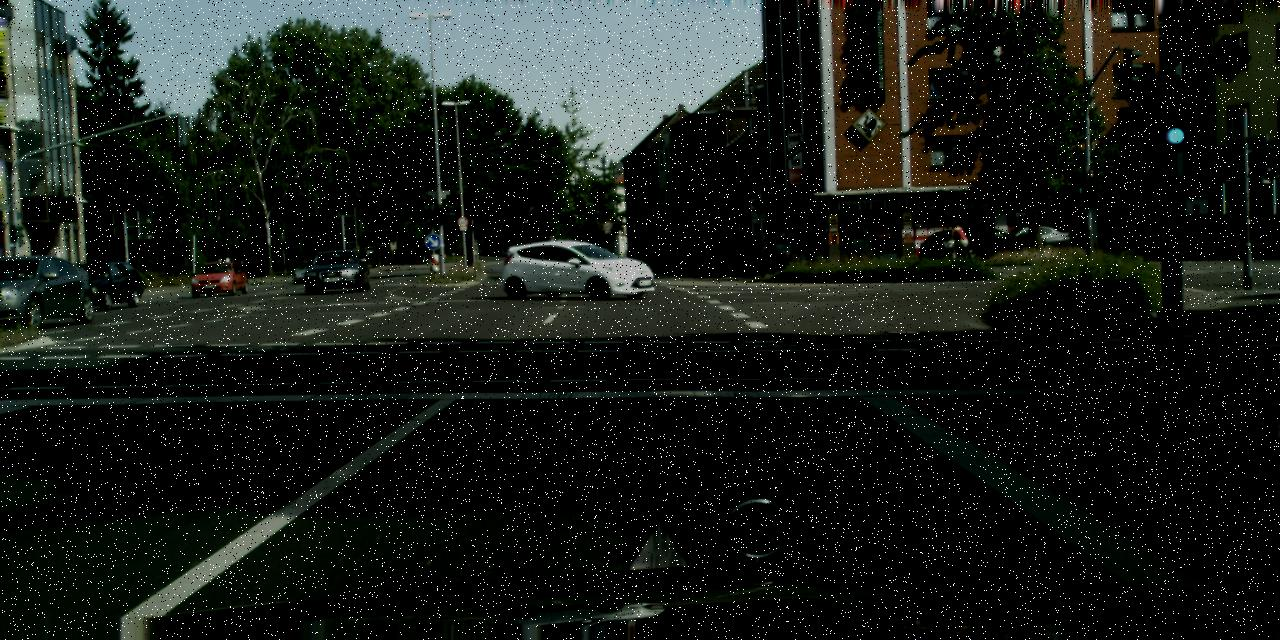ped: (950, 221, 964, 258), (698, 234, 711, 268)
